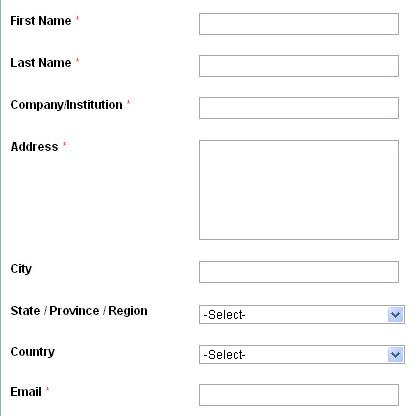field: (196, 139, 400, 241), (196, 11, 400, 37), (195, 259, 399, 284), (194, 383, 400, 407), (196, 54, 399, 78), (194, 96, 400, 119), (199, 344, 406, 365), (197, 304, 406, 324)
field_with_label: (10, 137, 401, 243), (9, 8, 402, 39), (11, 257, 401, 286), (8, 381, 401, 408), (10, 94, 401, 121), (10, 53, 400, 79), (10, 302, 408, 326), (11, 342, 407, 366)
